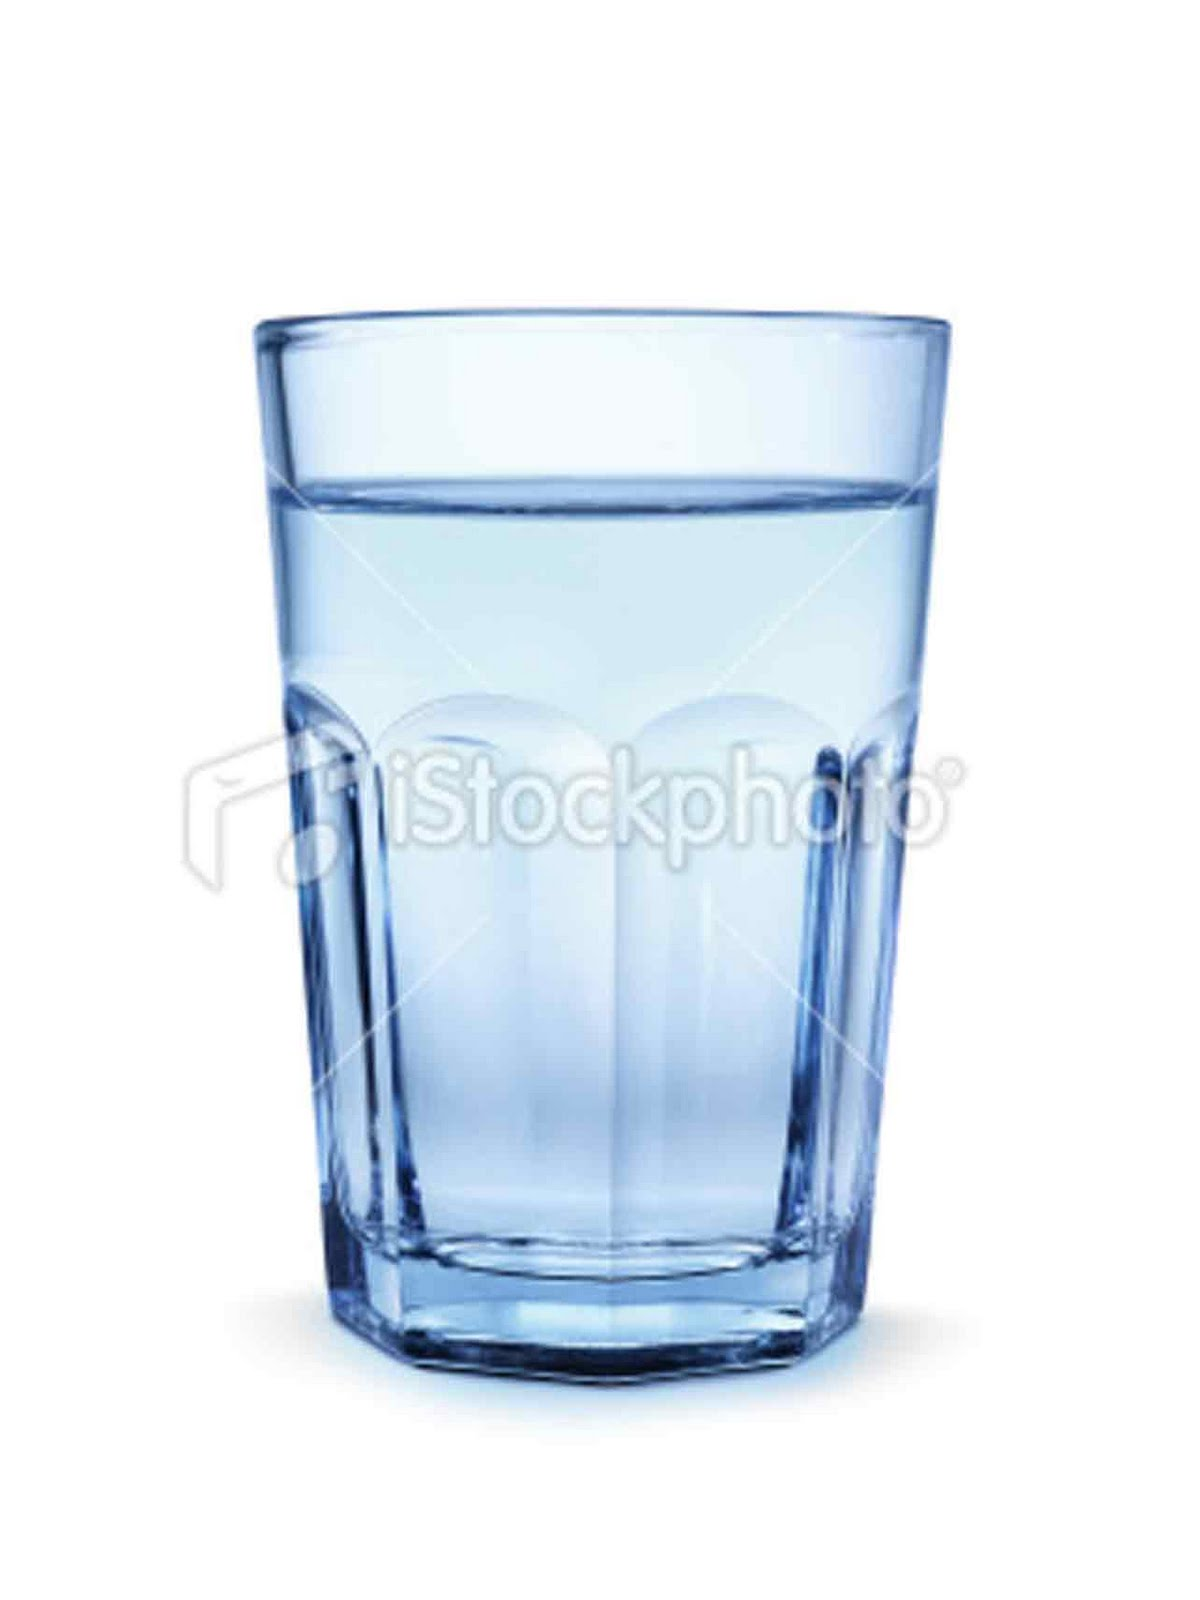glass of water: (316, 345, 860, 1385)
